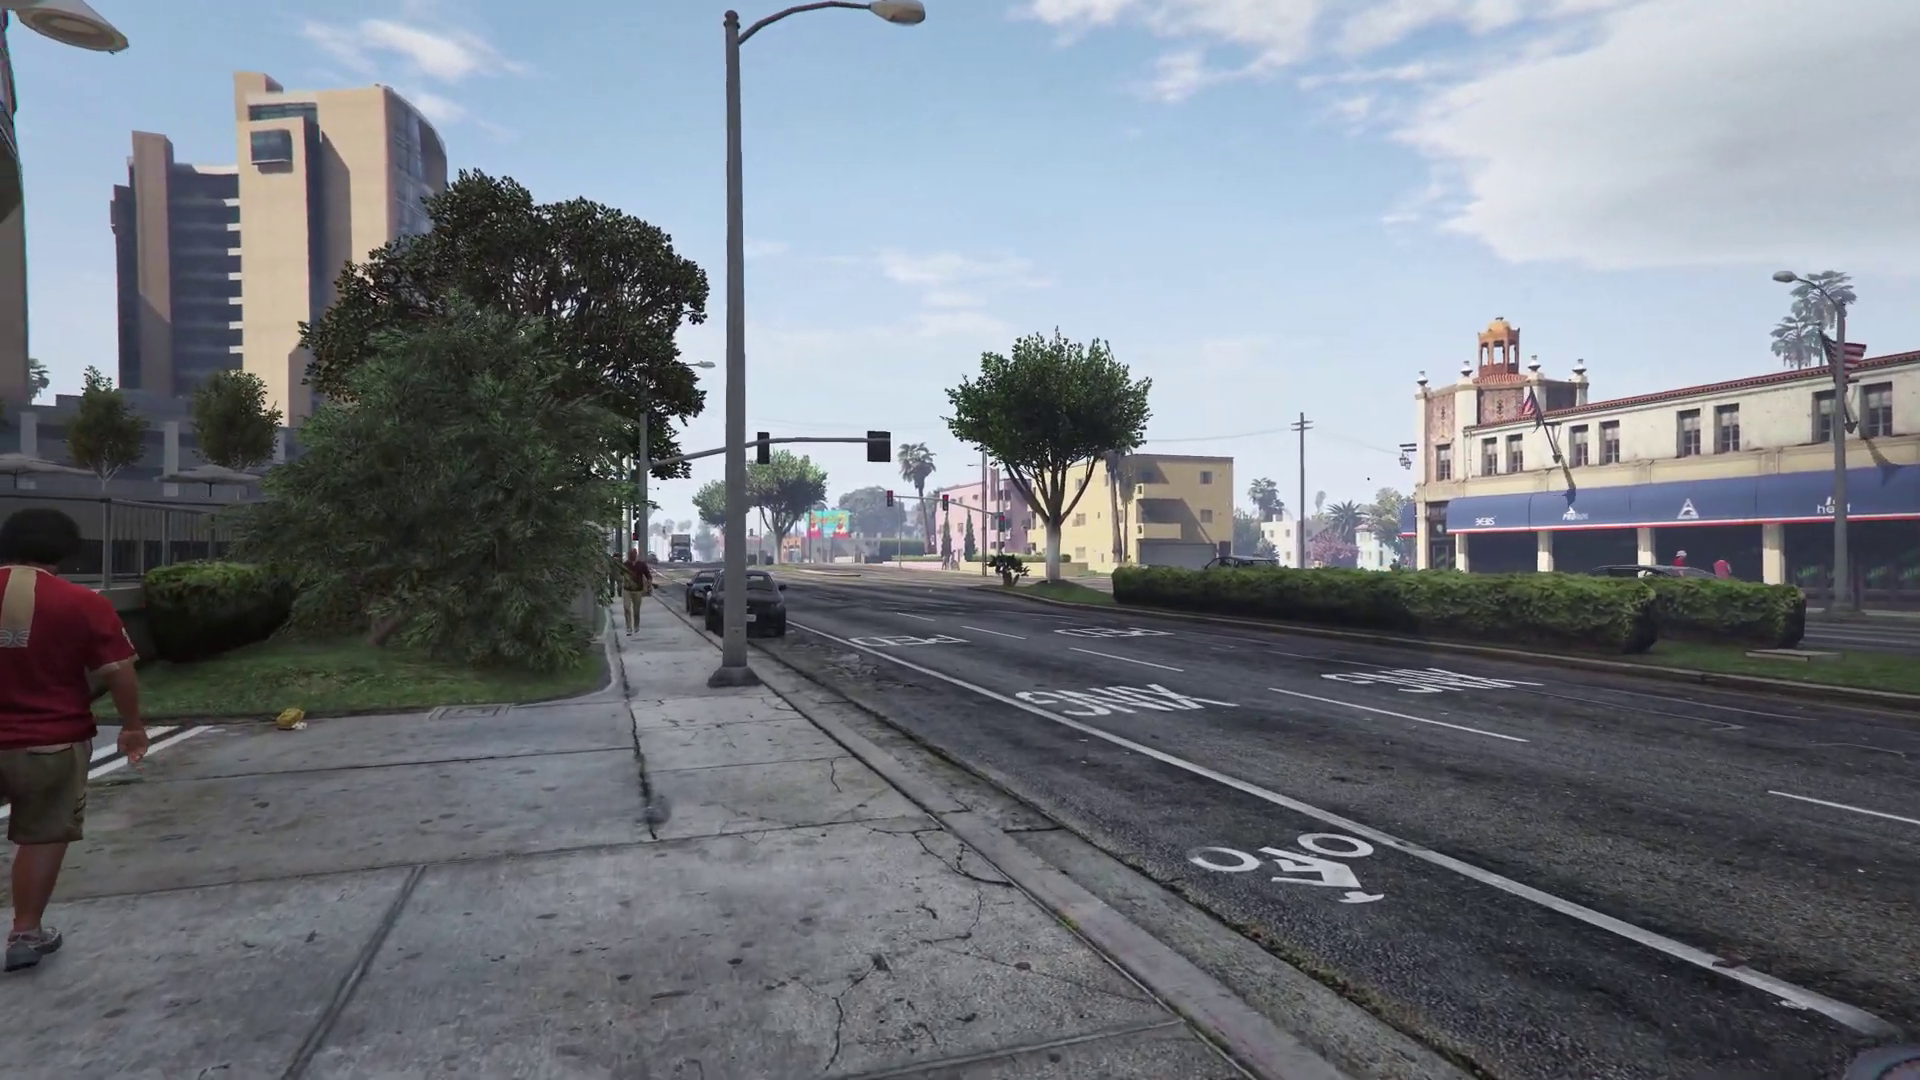car: (712, 570, 788, 637), (686, 567, 717, 616), (669, 533, 692, 562)
person: (1, 505, 152, 973), (620, 549, 651, 635), (1712, 554, 1732, 581), (1672, 549, 1687, 576)
traffic light: (865, 431, 889, 461), (757, 433, 768, 464), (997, 516, 1005, 531), (631, 504, 638, 522), (942, 494, 948, 511), (886, 491, 892, 507), (631, 531, 640, 542)
